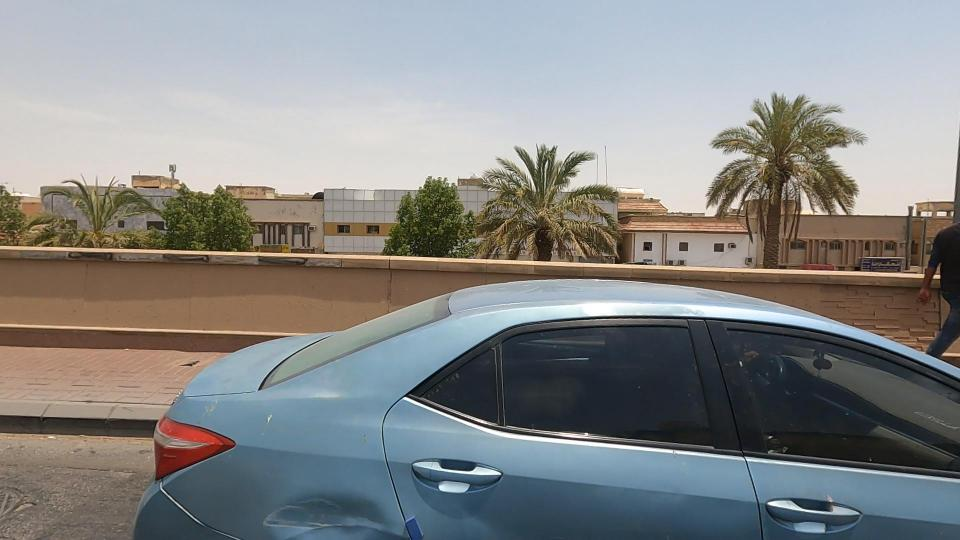BAD_BILLBOARD: (831, 240, 920, 291)
